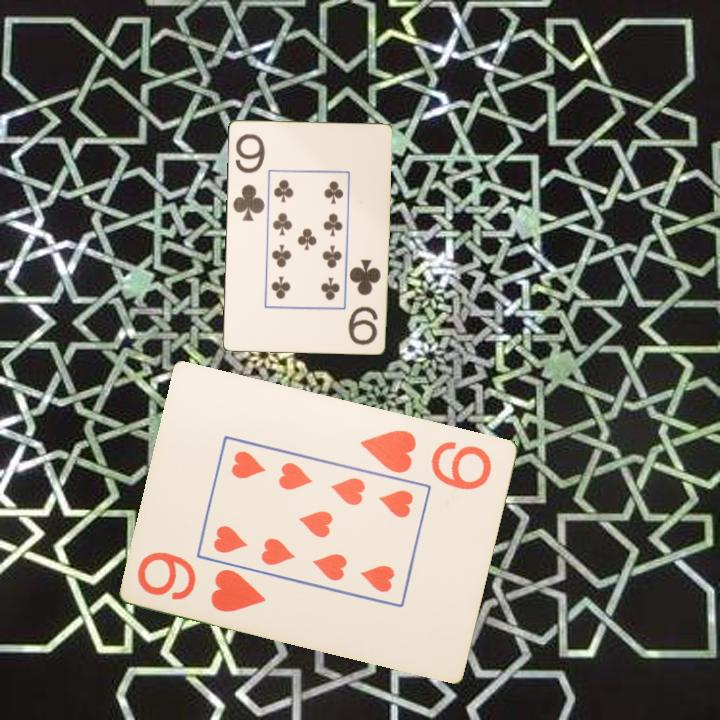9c: (229, 130, 267, 224), (345, 256, 383, 348)
9h: (357, 426, 496, 493), (134, 548, 270, 615)
